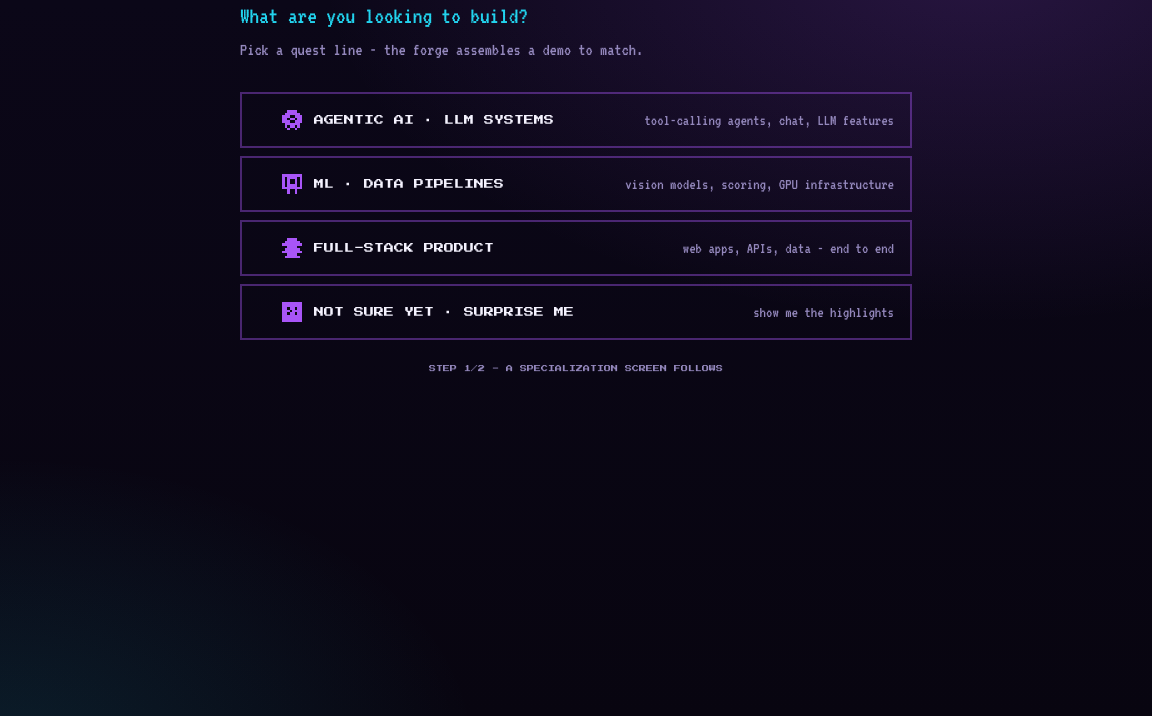
Test: skips the minigame entirely under reduced motion
This screenshot has width=1152, height=716.
Click the button "ML · DATA PIPELINES".
click(409, 184)  # box [240,156,912,212]
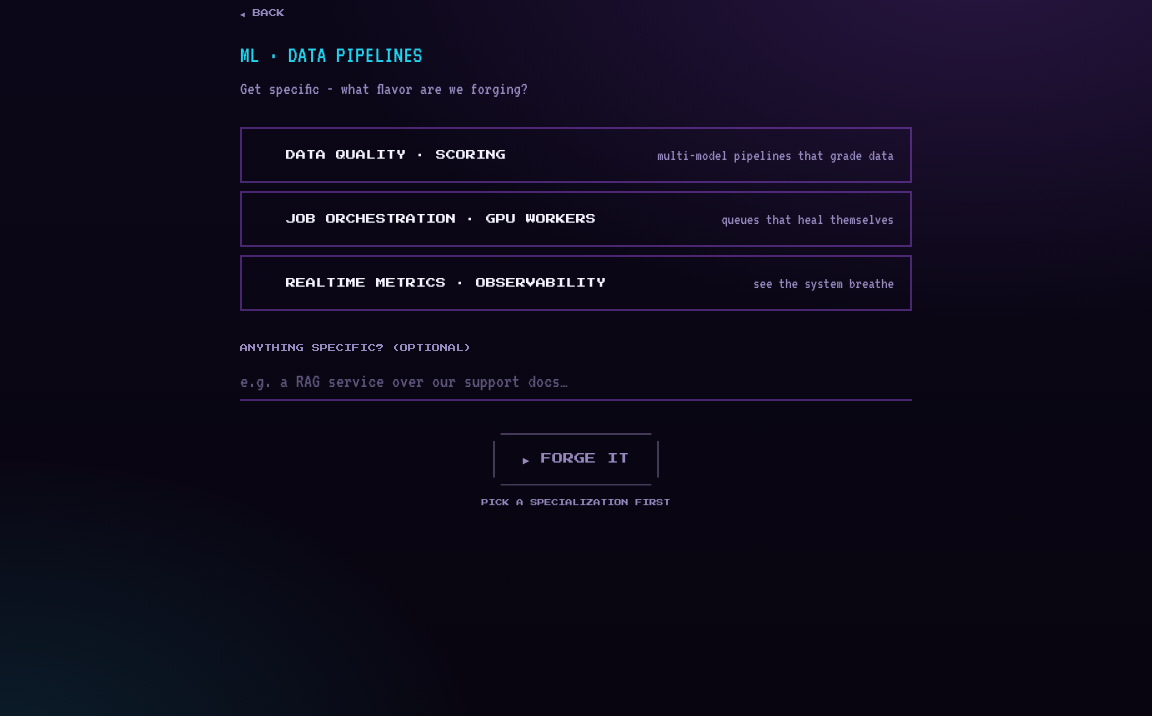
Click the radio button labelled "DATA QUALITY · SCORING multi-model pipelines that grade data".
click(396, 155)  # box [240,127,912,183]
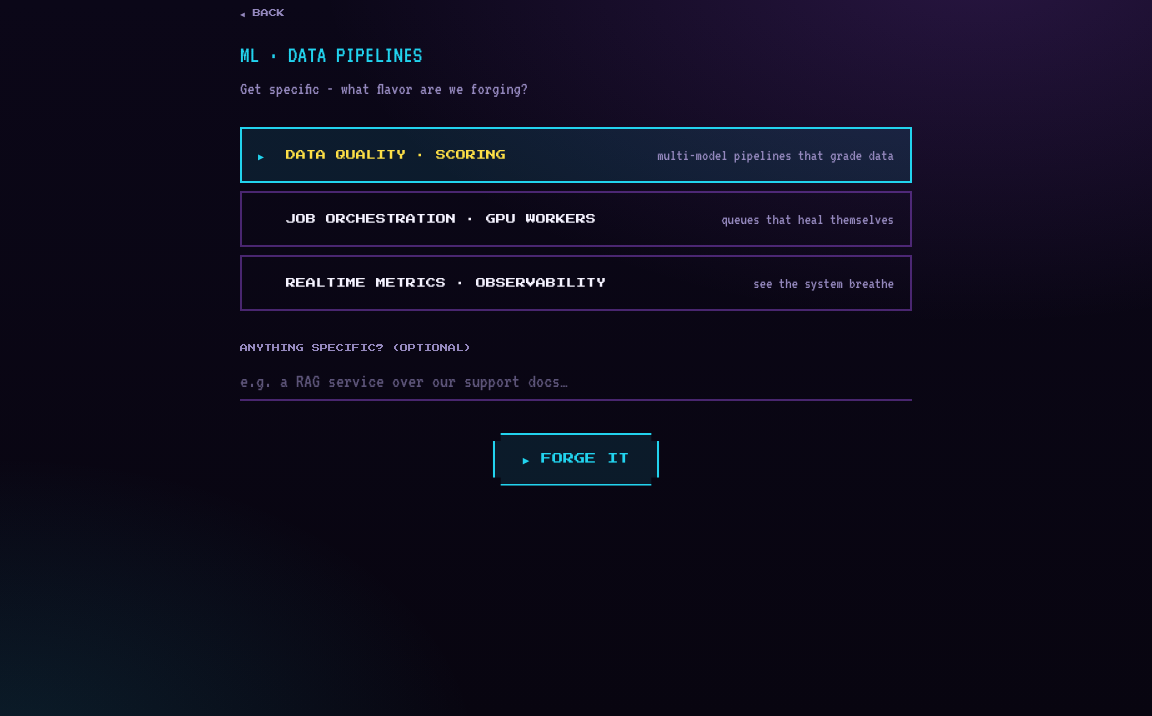
Click the button "▶ FORGE IT".
click(576, 459)  # box [493,433,659,486]
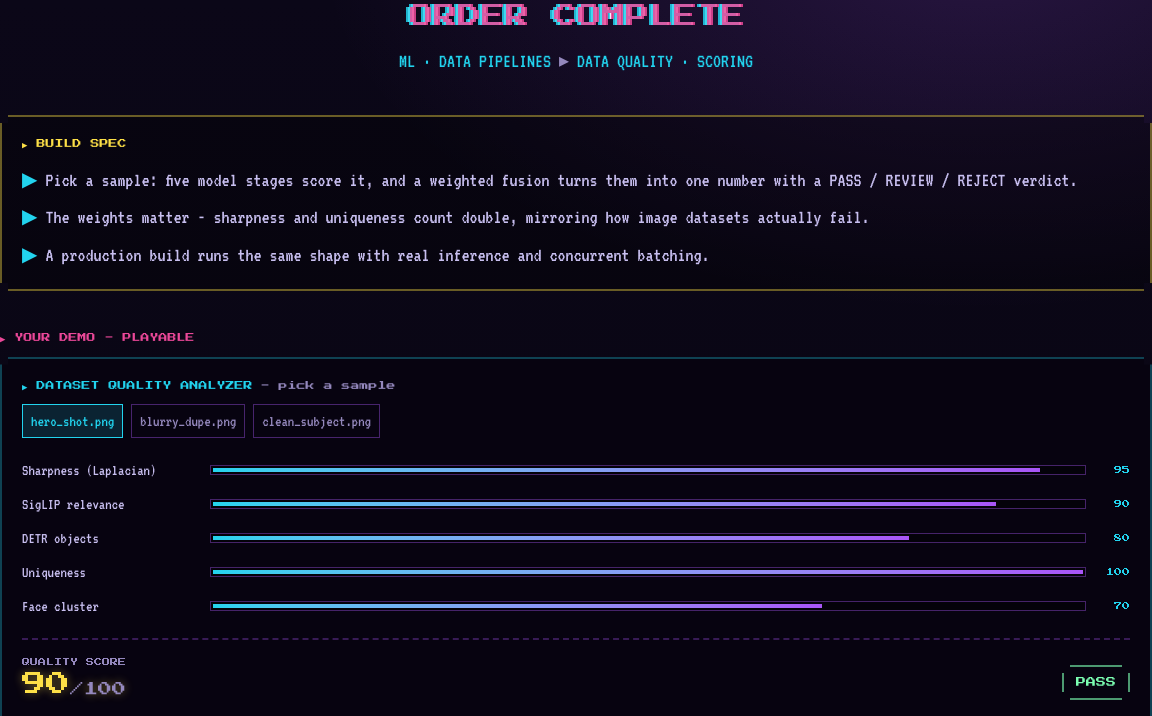
Now the text "ORDER COMPLETE" is shown, box [408,0,744,32]
